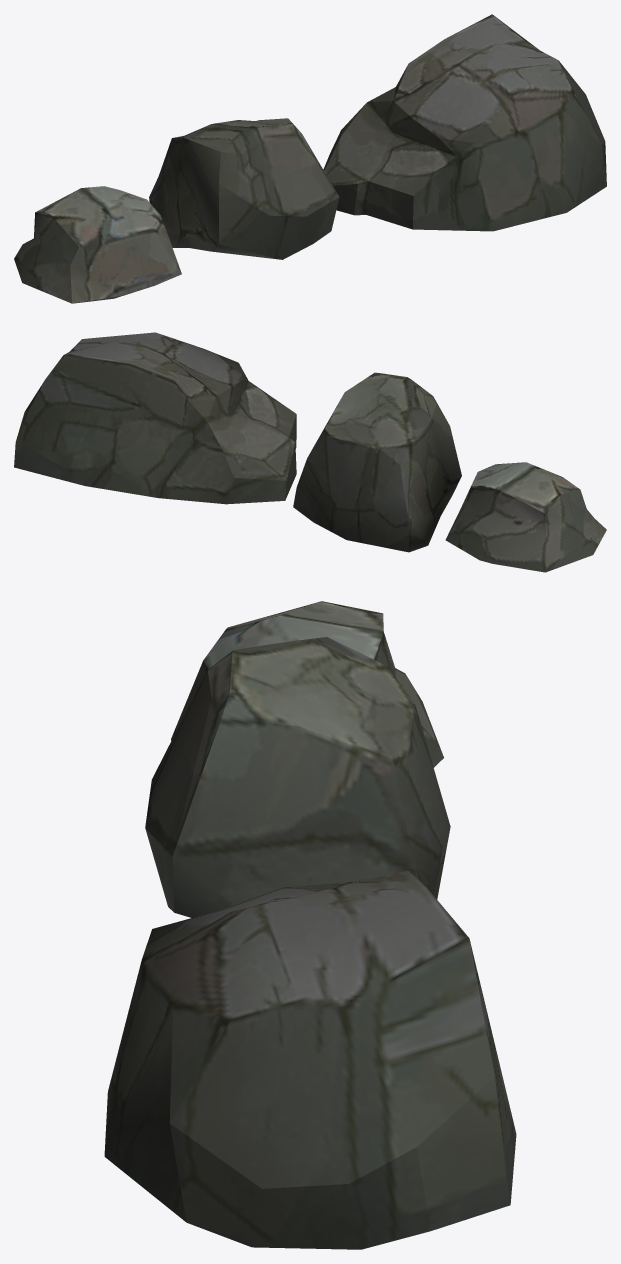
The model's file is 2_YiZhan_JuShi_01.FBX.
3 renders of one model, top to bottom at view 1: azimuth 30°, elevation 25°; view 2: azimuth 150°, elevation 25°; view 3: azimuth 270°, elevation 25°, orthographic. The views are drawn at different scales.
Parts seen in each view (by area): view 1: 2_YiZhan_JuShi_03, 2_YiZhan_JuShi_02, 2_YiZhan_JuShi_01; view 2: 2_YiZhan_JuShi_03, 2_YiZhan_JuShi_02, 2_YiZhan_JuShi_01; view 3: 2_YiZhan_JuShi_03, 2_YiZhan_JuShi_02, 2_YiZhan_JuShi_01.
Boxes of the visible parts, box(x1,y1,x2,y2) form: 2_YiZhan_JuShi_03: box(323, 14, 606, 231); 2_YiZhan_JuShi_02: box(149, 118, 339, 259); 2_YiZhan_JuShi_01: box(14, 186, 181, 303); 2_YiZhan_JuShi_03: box(14, 332, 296, 504); 2_YiZhan_JuShi_02: box(293, 372, 461, 552); 2_YiZhan_JuShi_01: box(445, 462, 606, 572); 2_YiZhan_JuShi_03: box(104, 870, 516, 1249); 2_YiZhan_JuShi_02: box(145, 637, 450, 917); 2_YiZhan_JuShi_01: box(171, 601, 443, 767).
Bounding box in the file's own units: 1454 × 361 × 470.
1 material, 1 textured.
